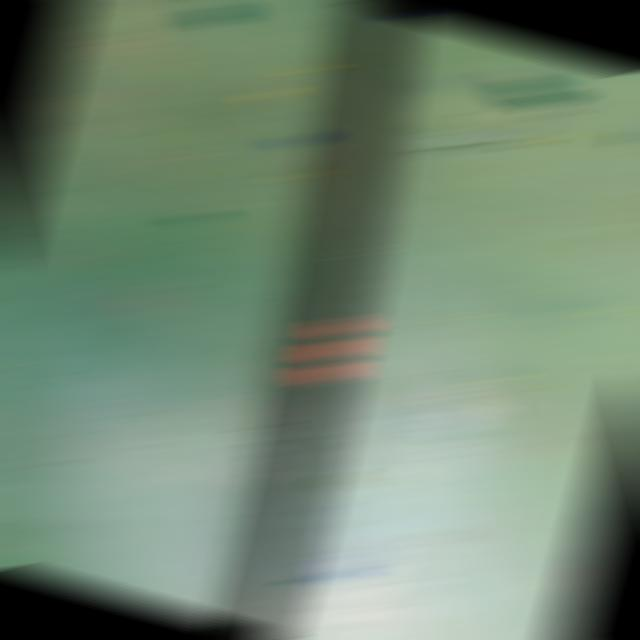red: (292, 313, 371, 386)
